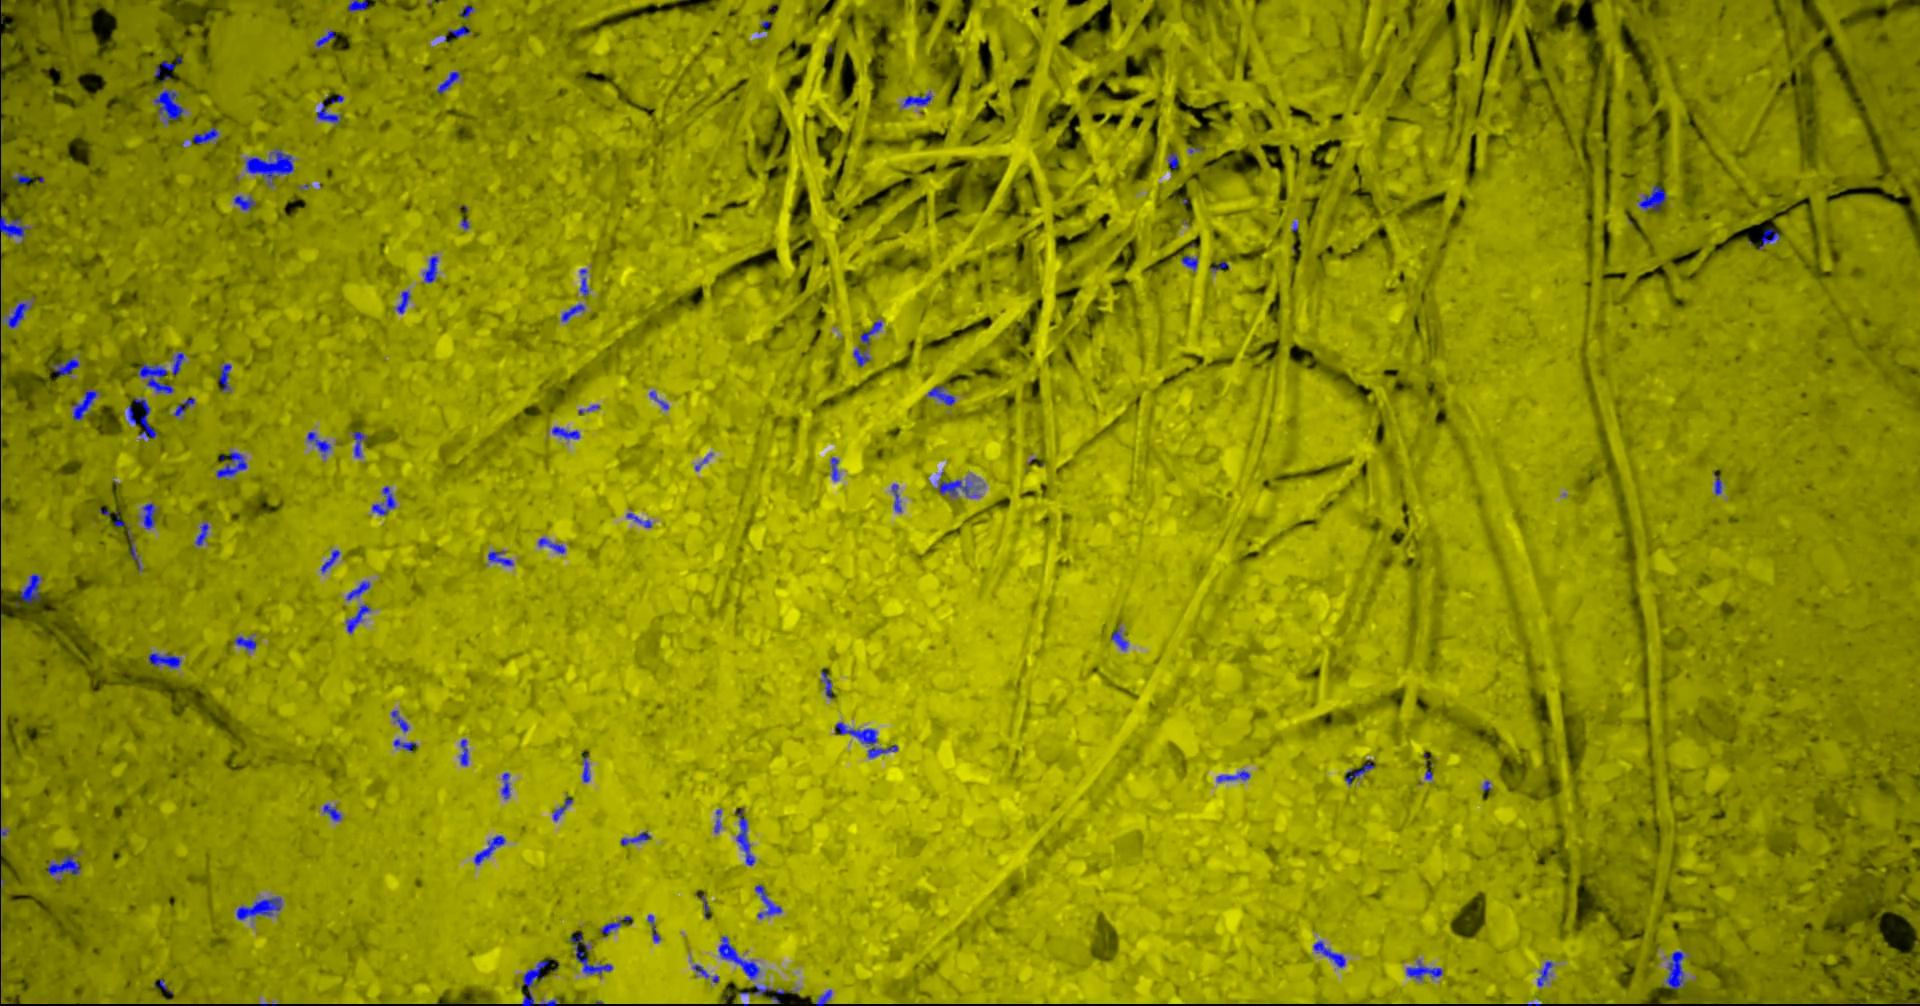ant: (836, 721, 899, 757), (571, 932, 615, 976), (720, 936, 761, 979), (248, 149, 295, 185), (116, 511, 142, 570), (522, 960, 557, 1005), (130, 398, 159, 439), (237, 895, 283, 920), (138, 363, 175, 392), (738, 808, 756, 865), (155, 89, 185, 122), (756, 884, 783, 918), (475, 835, 507, 864), (1316, 940, 1347, 967), (317, 94, 345, 123), (1, 213, 30, 241), (217, 451, 248, 478), (74, 389, 99, 420), (1667, 951, 1688, 988), (1408, 959, 1444, 979), (347, 605, 372, 633), (1639, 185, 1669, 210), (373, 485, 397, 514), (938, 479, 980, 495), (48, 854, 81, 874), (22, 573, 43, 603), (1346, 762, 1377, 784), (754, 984, 786, 1005), (309, 431, 333, 456), (155, 56, 184, 76), (930, 384, 956, 405), (8, 302, 30, 326), (861, 320, 883, 345), (52, 358, 81, 376), (149, 652, 182, 667), (438, 71, 461, 93), (554, 796, 574, 821), (1760, 227, 1782, 249), (192, 127, 218, 144), (323, 549, 342, 572), (348, 580, 371, 600), (538, 537, 566, 553), (905, 91, 935, 105), (622, 831, 651, 845), (424, 255, 439, 282), (563, 304, 585, 321), (489, 550, 516, 565), (175, 398, 196, 417), (354, 431, 370, 456), (1112, 627, 1129, 650), (1218, 770, 1251, 781), (552, 426, 582, 438), (629, 512, 653, 527), (1539, 962, 1554, 986), (651, 390, 670, 409), (392, 710, 410, 730), (446, 25, 471, 39), (220, 363, 232, 391), (143, 503, 157, 528), (649, 915, 662, 942), (822, 669, 833, 699), (602, 921, 623, 936), (397, 290, 411, 312), (325, 803, 343, 821), (317, 30, 337, 47), (855, 347, 871, 366), (235, 196, 257, 210), (197, 522, 210, 545), (235, 636, 258, 649), (893, 483, 903, 511), (395, 738, 418, 749), (817, 989, 833, 1005), (348, 0, 370, 11), (174, 352, 185, 373), (582, 268, 590, 295), (461, 738, 470, 765), (13, 171, 33, 183), (1183, 255, 1199, 271), (583, 754, 590, 782), (832, 457, 841, 480), (503, 772, 510, 798), (1170, 151, 1181, 168), (461, 5, 475, 18), (1716, 476, 1723, 494)
